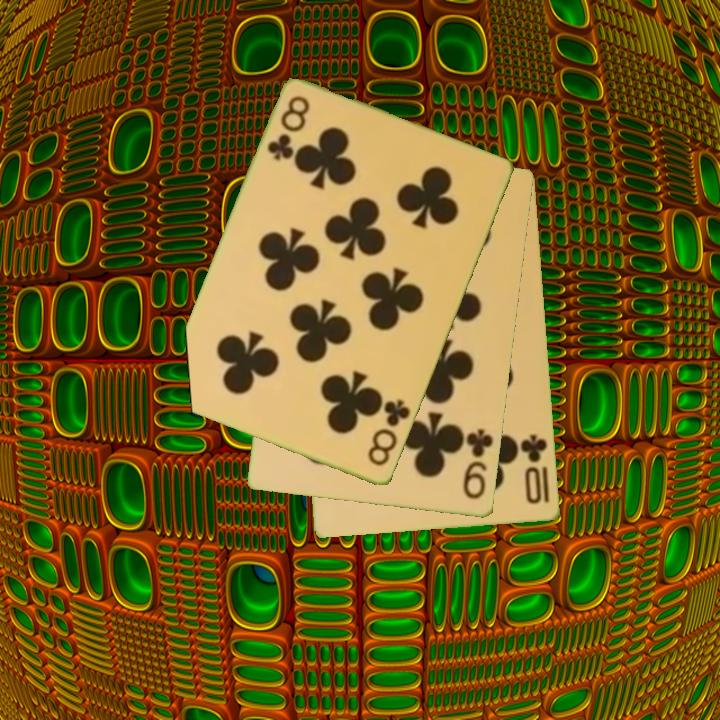10c: (517, 431, 550, 507)
8c: (364, 396, 414, 470), (264, 92, 313, 164)
9c: (460, 425, 496, 503)
